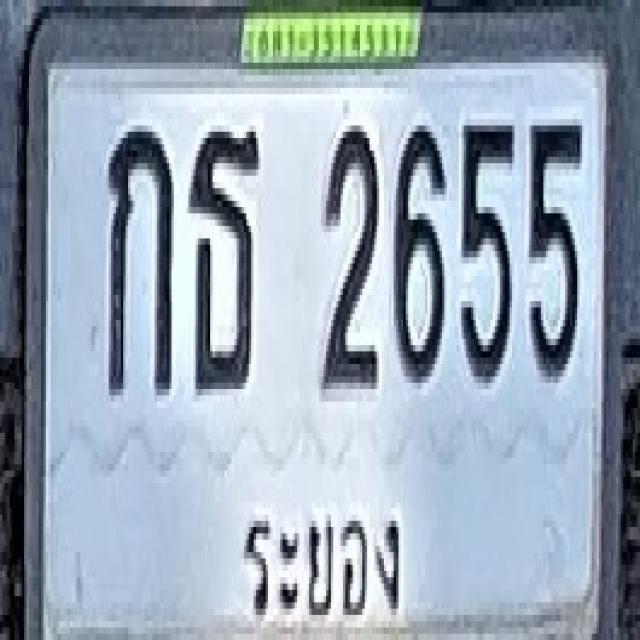-: (188, 126, 258, 389), (108, 126, 172, 396)
2: (320, 122, 378, 392)
5: (460, 119, 513, 383), (529, 119, 582, 377)
6: (394, 122, 444, 380)
RYG: (224, 477, 416, 640)
